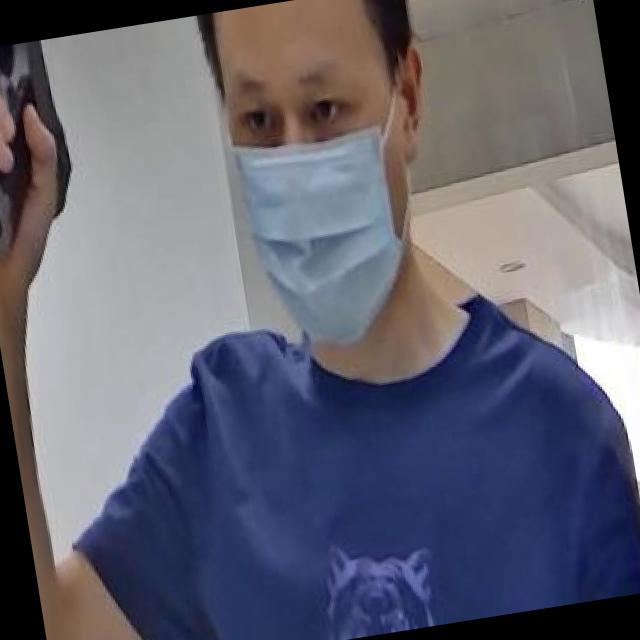Guns: (0, 32, 129, 289)
